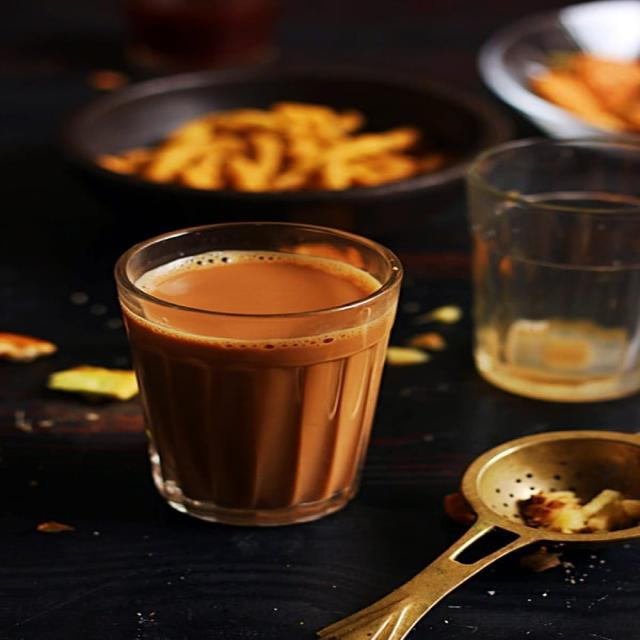chai: (96, 225, 418, 529)
